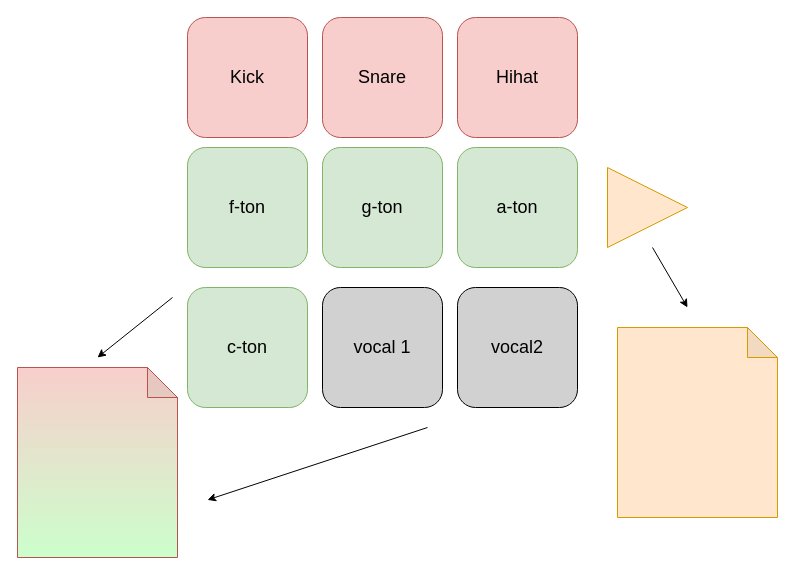
This 795x575 diagram has some shape labels left out. The centre of each missing label's shape, as x and y in pixels:
"beim Drücken auf den play-button, wird eine vorbestimmte Melodie abgespielt" belongs at (x=697, y=422).
"beim Drücken auf die Taste, wird ein bestimmter Ton abgespielt" belongs at (x=97, y=462).
"play" belongs at (x=647, y=207).
